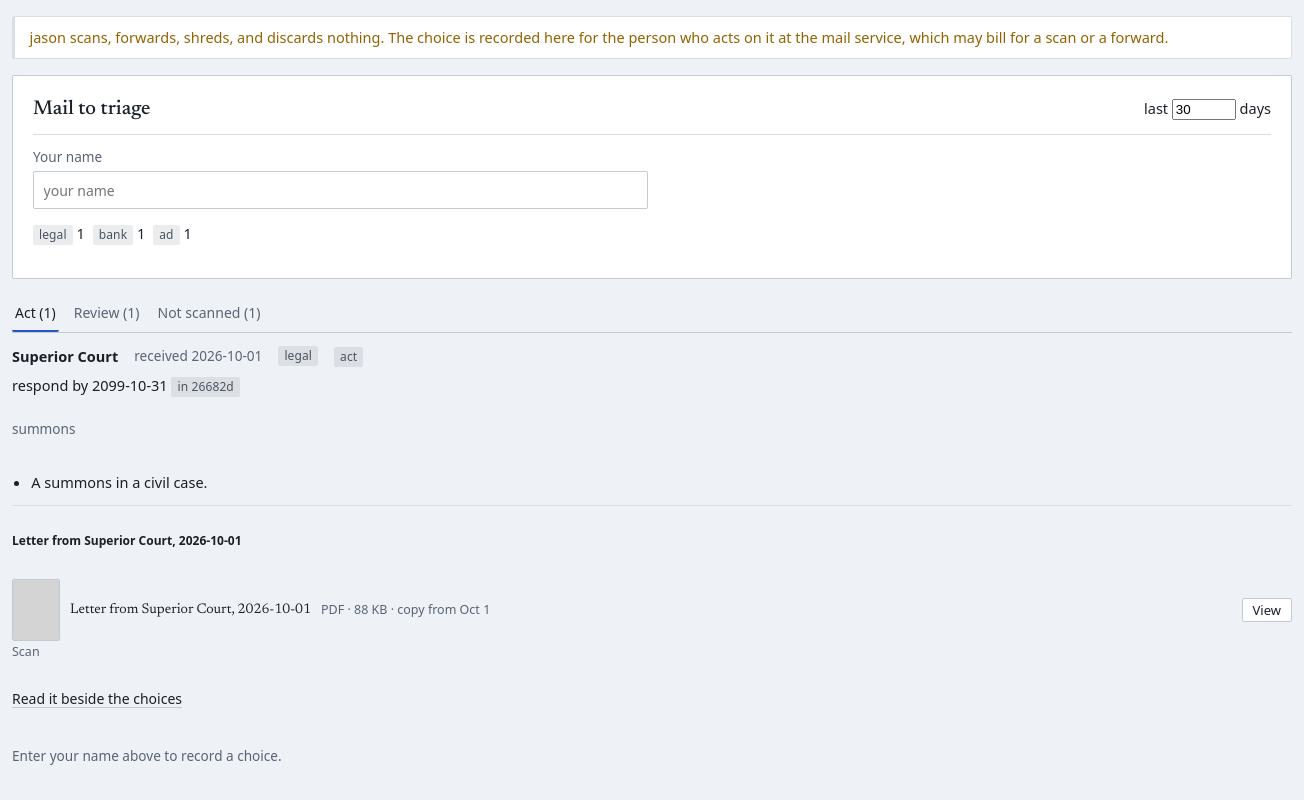
Scenario: MailTriageView: each letter's document (Doc) › shows the scan as a row, and the envelope for a letter not scanned
expect the heading "Letter from Superior Court, 2026-10-01" is shown: met, box 12,532 -> 242,549
expect the text "Scan" is shown: met, box 12,643 -> 40,660
What coordinates should you click on to do the following:
click the tab "Not scanned (1)"
I would click on:
 (209, 314)
Its box is 154,295 -> 264,332.
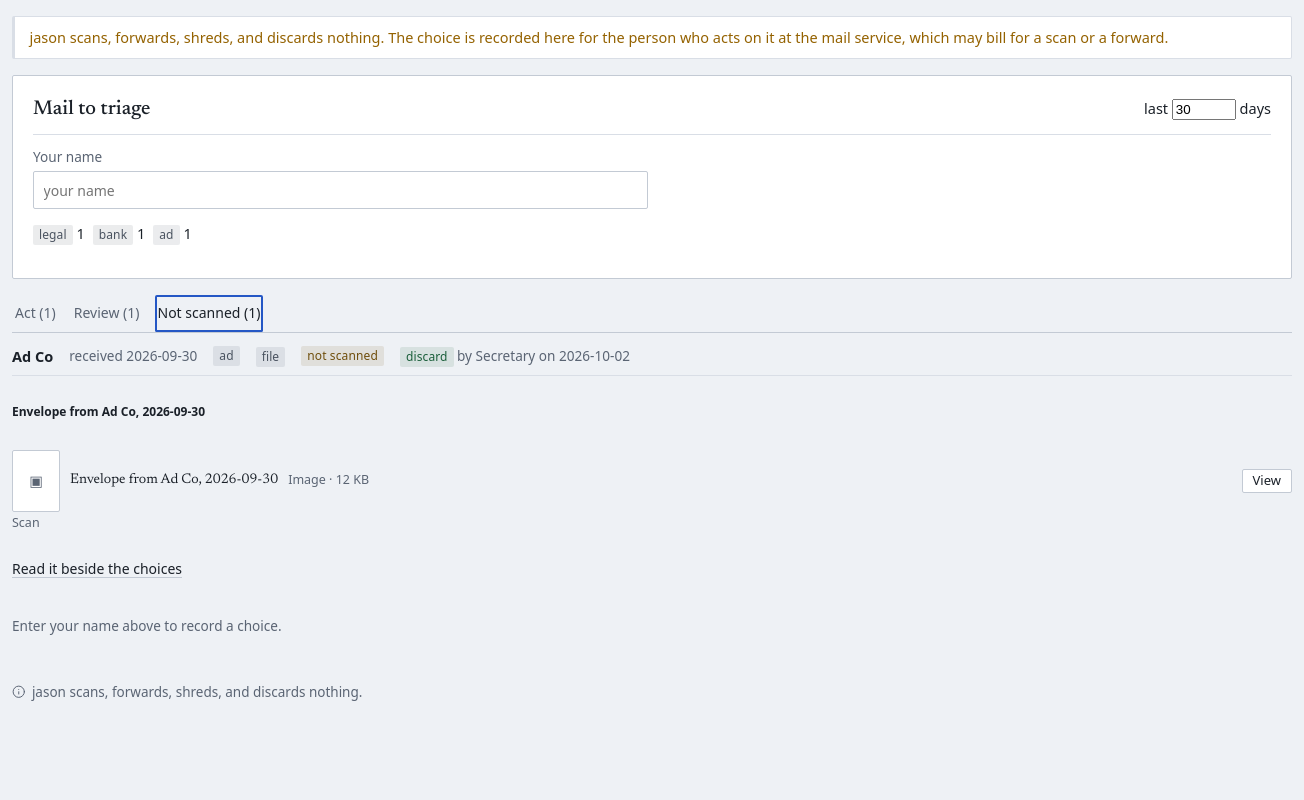
expect the text "Image · 12 KB" is shown: met, box 288,471 -> 369,490
